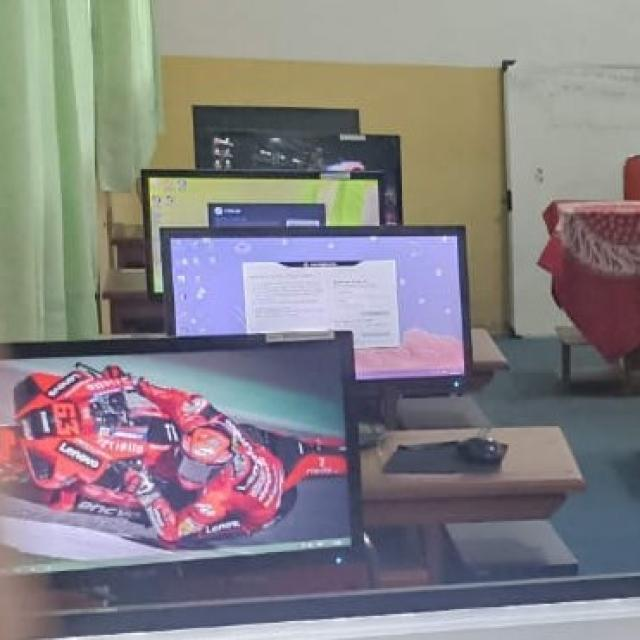onscreen: (0, 338, 362, 581), (162, 228, 468, 379), (147, 173, 378, 297), (194, 131, 405, 219), (194, 105, 362, 133)
